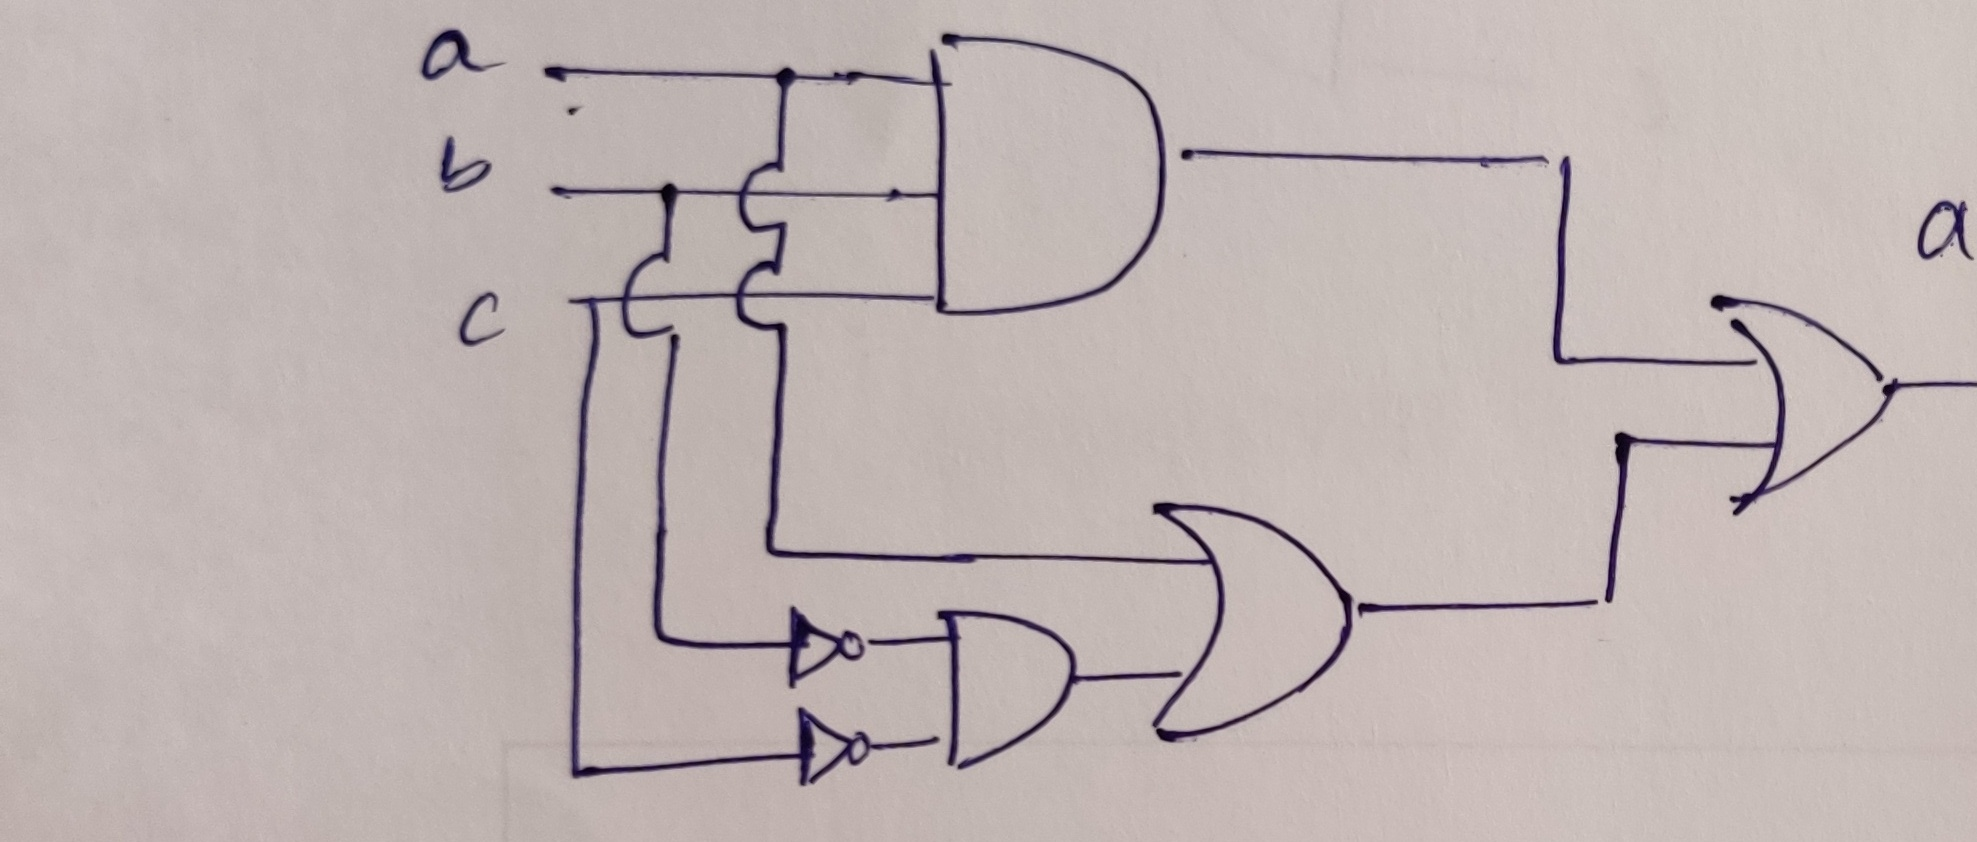and: (866, 1, 1231, 374)
not: (764, 703, 913, 816), (741, 587, 881, 698)
or: (1118, 469, 1422, 771), (1686, 255, 1925, 562)
